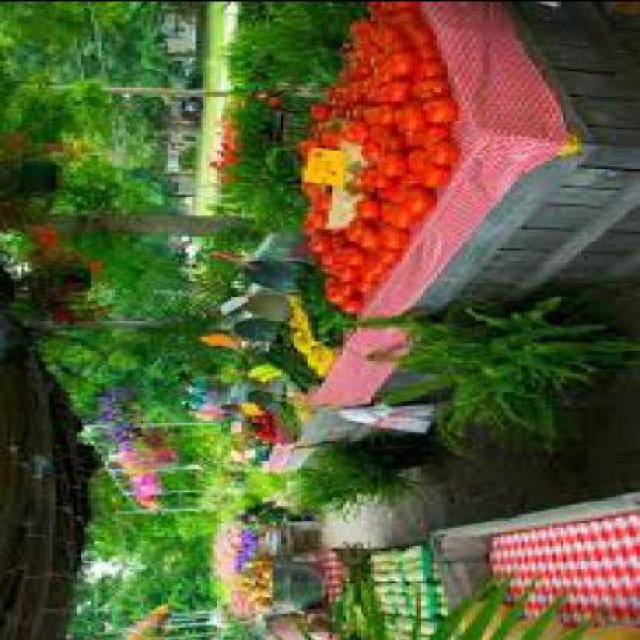BIODEGRADABLE: (295, 261, 353, 342), (263, 322, 322, 386), (283, 296, 332, 372), (333, 552, 367, 638), (388, 94, 427, 128), (367, 72, 410, 102), (423, 135, 462, 163), (406, 72, 448, 96), (396, 182, 430, 209), (417, 159, 451, 183), (420, 94, 454, 118), (273, 400, 298, 431), (339, 44, 364, 74), (374, 147, 406, 170), (375, 129, 402, 156), (388, 200, 419, 223), (374, 222, 406, 244), (339, 214, 370, 235), (367, 9, 388, 40), (382, 47, 409, 71), (357, 165, 391, 184), (416, 118, 444, 140), (406, 54, 440, 72), (342, 17, 367, 41), (245, 412, 269, 436), (360, 246, 385, 268), (360, 100, 385, 122), (381, 25, 405, 47), (332, 291, 360, 309), (402, 21, 430, 39), (335, 238, 357, 260), (339, 118, 361, 140), (364, 119, 394, 135), (332, 272, 357, 291), (353, 195, 378, 214), (388, 10, 419, 25), (304, 225, 325, 247), (294, 132, 315, 154), (356, 222, 375, 246), (405, 147, 424, 171), (399, 128, 423, 147), (322, 74, 343, 95), (374, 199, 392, 223), (412, 612, 437, 628), (356, 137, 375, 158), (332, 260, 360, 274), (374, 242, 398, 258), (315, 121, 333, 142), (367, 45, 381, 72), (381, 0, 412, 12), (374, 180, 398, 195), (297, 210, 321, 225), (349, 275, 371, 291), (360, 263, 385, 277), (412, 42, 437, 56), (307, 188, 325, 207), (353, 75, 367, 99), (346, 247, 368, 262), (360, 1, 382, 16), (326, 226, 340, 249), (301, 179, 325, 192), (314, 248, 328, 270), (328, 93, 342, 115), (322, 277, 336, 298), (336, 74, 350, 95), (378, 556, 399, 569), (408, 592, 427, 606), (307, 100, 325, 114), (395, 612, 413, 626), (392, 172, 416, 182), (304, 116, 322, 129), (402, 541, 420, 554), (384, 577, 402, 589), (388, 570, 406, 582), (346, 100, 360, 114), (244, 563, 258, 577), (392, 624, 406, 638), (396, 598, 410, 612), (248, 596, 266, 606), (252, 554, 270, 563), (248, 581, 260, 594), (370, 566, 388, 574), (378, 598, 392, 608), (388, 588, 402, 598), (364, 556, 378, 566), (367, 577, 381, 586), (384, 547, 398, 556), (434, 598, 444, 610), (363, 550, 382, 556), (409, 630, 423, 638), (406, 566, 420, 574), (409, 556, 423, 564), (431, 577, 437, 594), (412, 580, 423, 588), (260, 560, 266, 574), (382, 624, 388, 638), (413, 606, 427, 612), (256, 582, 266, 590), (378, 612, 388, 619), (252, 576, 262, 582), (374, 590, 384, 596), (238, 577, 244, 586), (434, 592, 440, 600)
